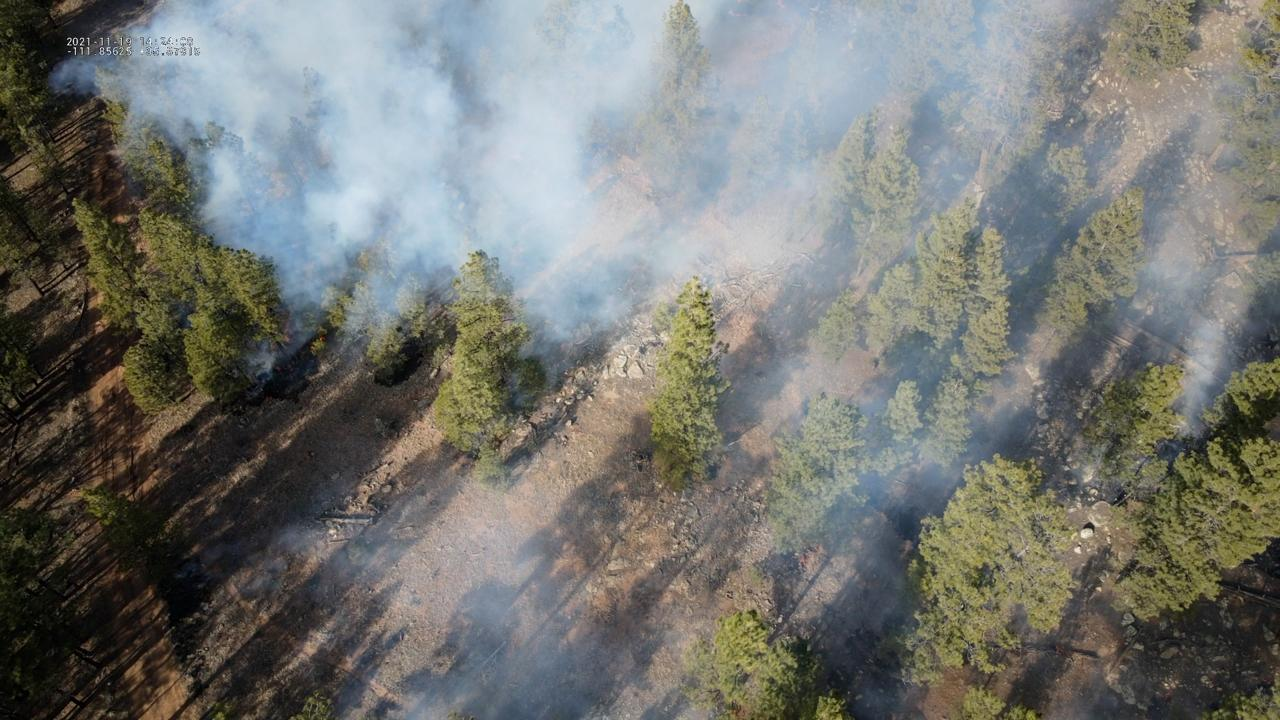fire: (282, 325, 291, 342), (799, 555, 808, 566), (265, 395, 272, 403), (318, 335, 327, 341), (271, 343, 278, 350), (274, 366, 281, 373)
smoke: (41, 0, 1280, 720)
